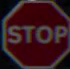Stop: (3, 1, 65, 64)
